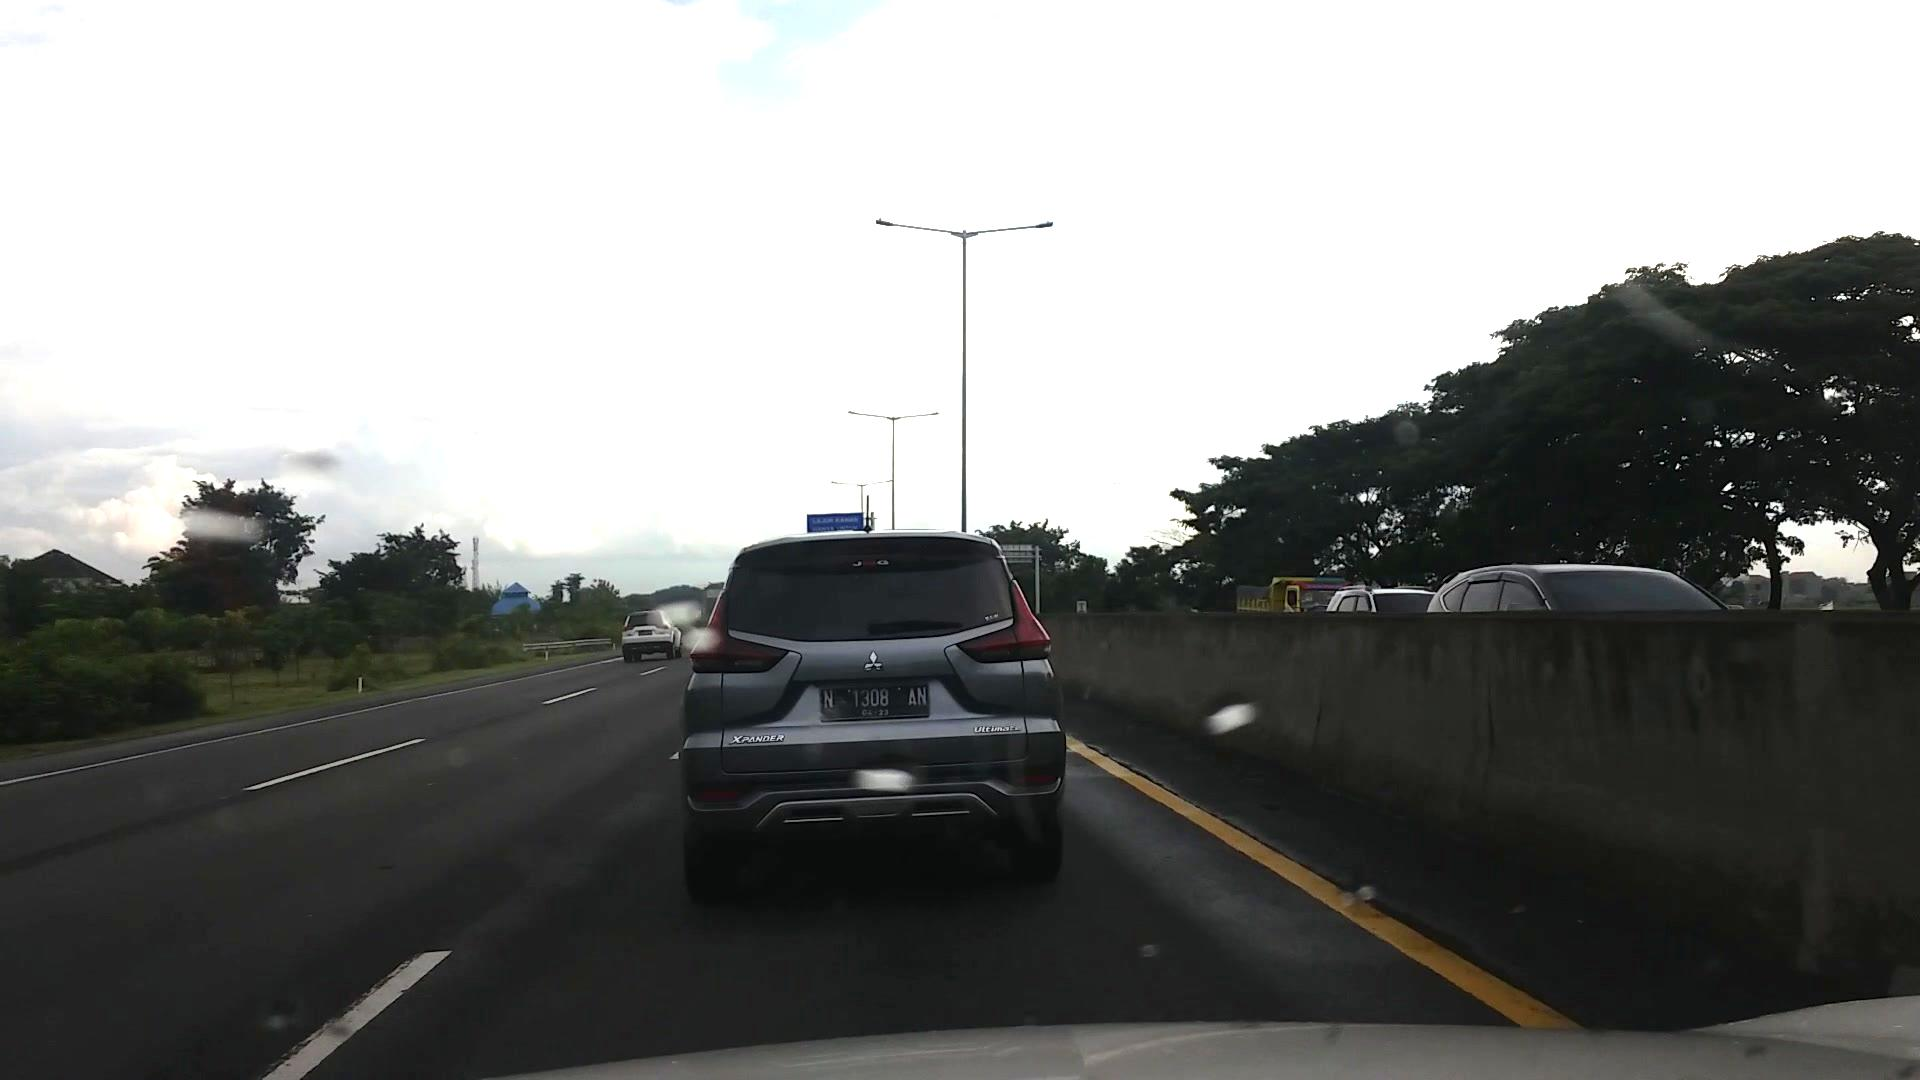plate_positive: (819, 684, 930, 720)
